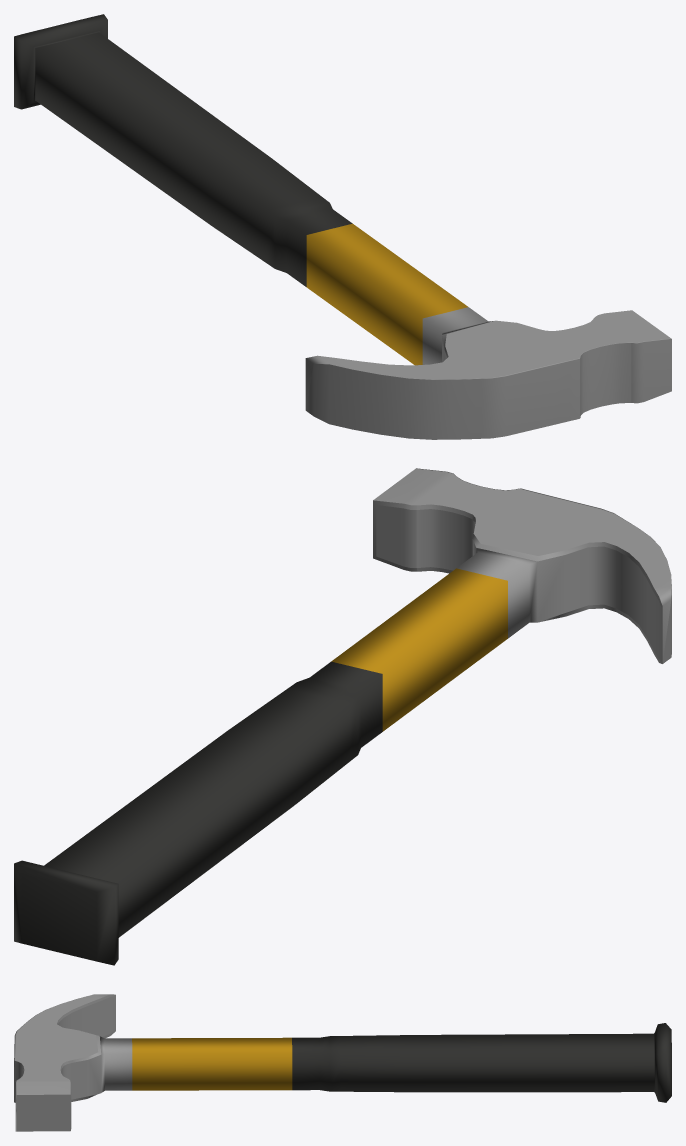
The model's file is Hammer.fbx.
3 views of the same model, one above another, from view 1: azimuth 30°, elevation 25°; view 2: azimuth 150°, elevation 25°; view 3: azimuth 270°, elevation 25° (orthographic). The views are drawn at different scales.
Parts seen in each view (by area): view 1: Hammer; view 2: Hammer; view 3: Hammer.
Boxes of the visible parts, bbox=[...] form: Hammer: bbox=[14, 14, 671, 439]; Hammer: bbox=[14, 468, 671, 965]; Hammer: bbox=[14, 994, 671, 1131].
Bounding box in the file's own units: 0.3579 × 0.0819 × 0.9913.
